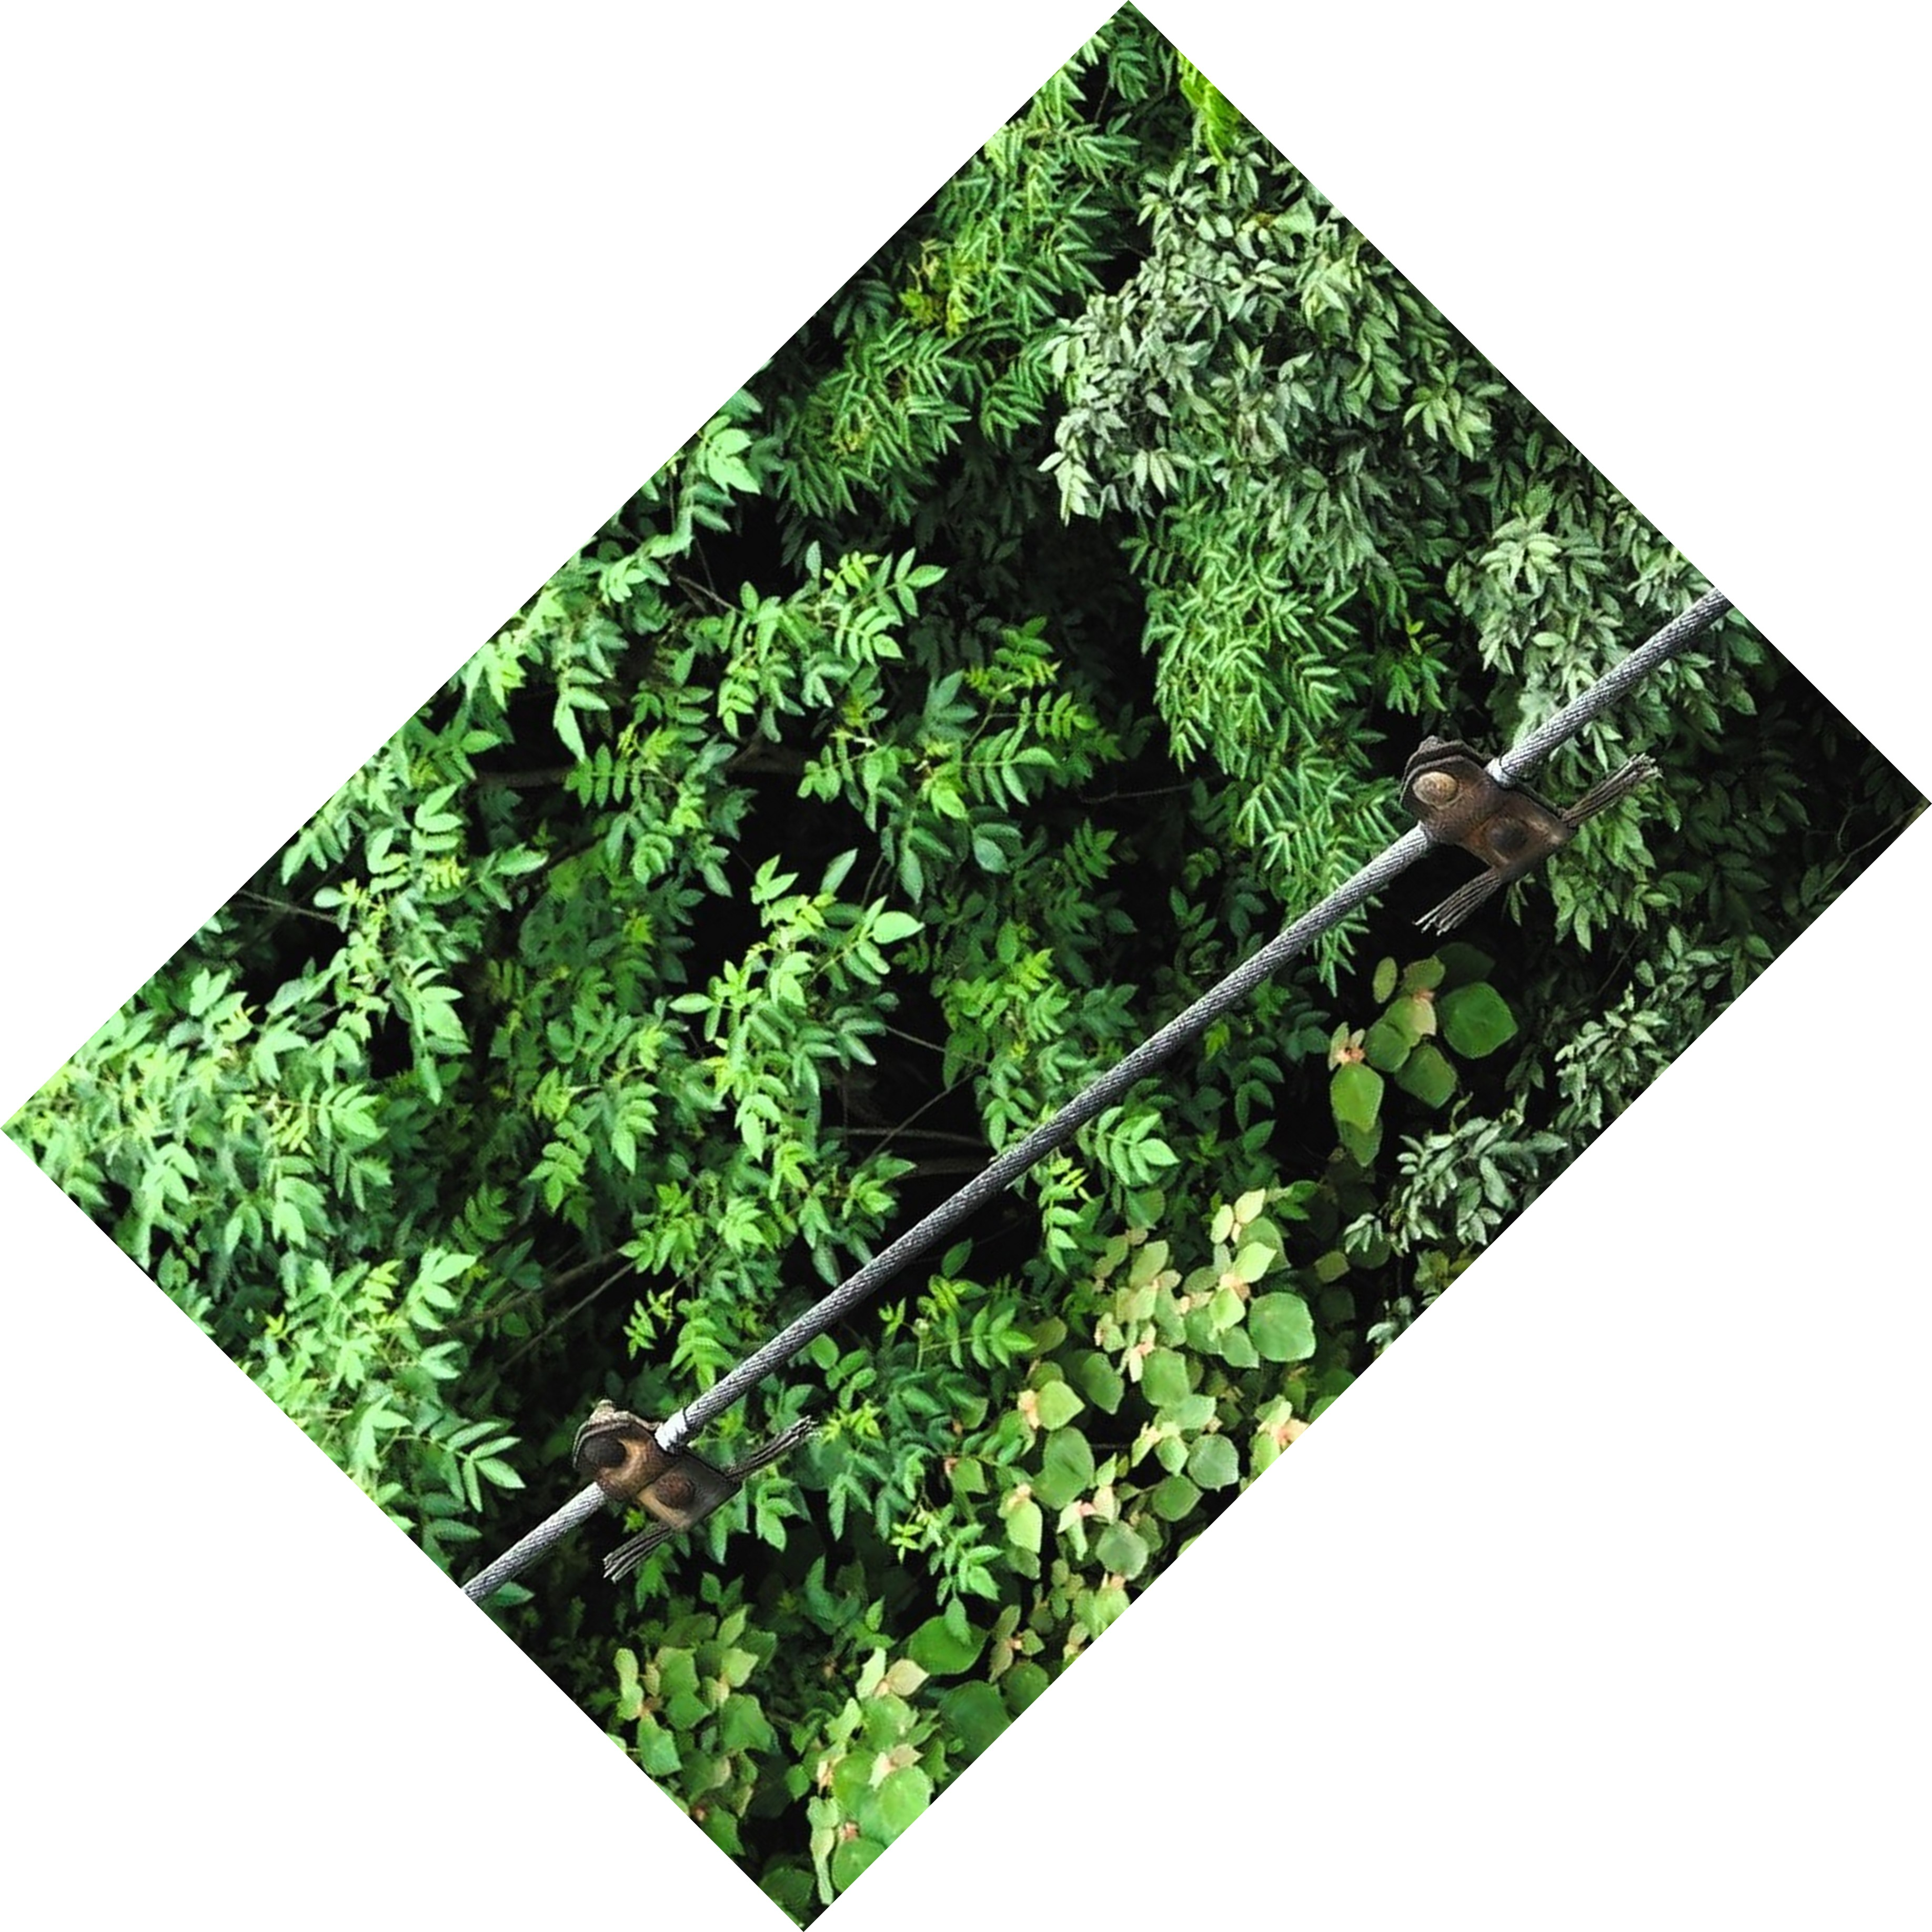Damage of shockproof hammer: (1364, 704, 1670, 973), (548, 1364, 840, 1619)
